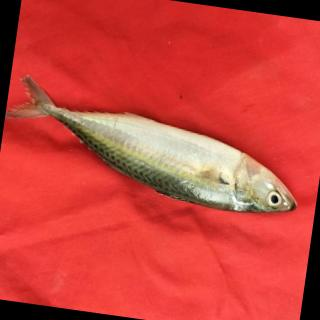Ikan: (1, 51, 320, 245)
